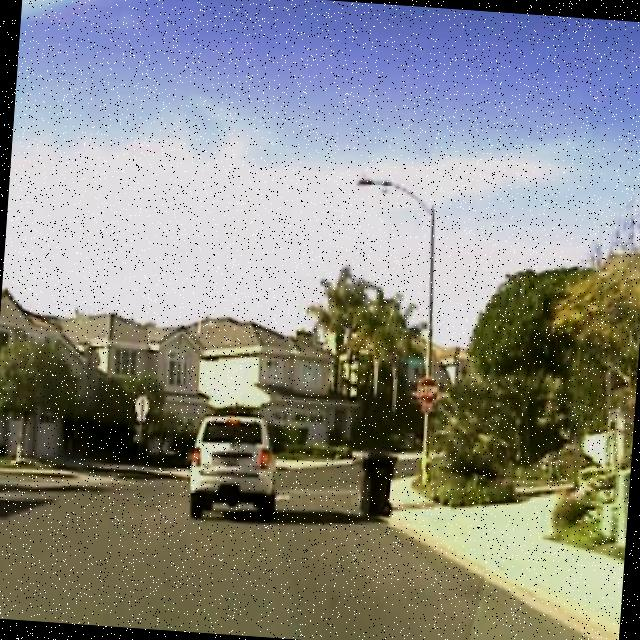Stop: (415, 373, 442, 407)
